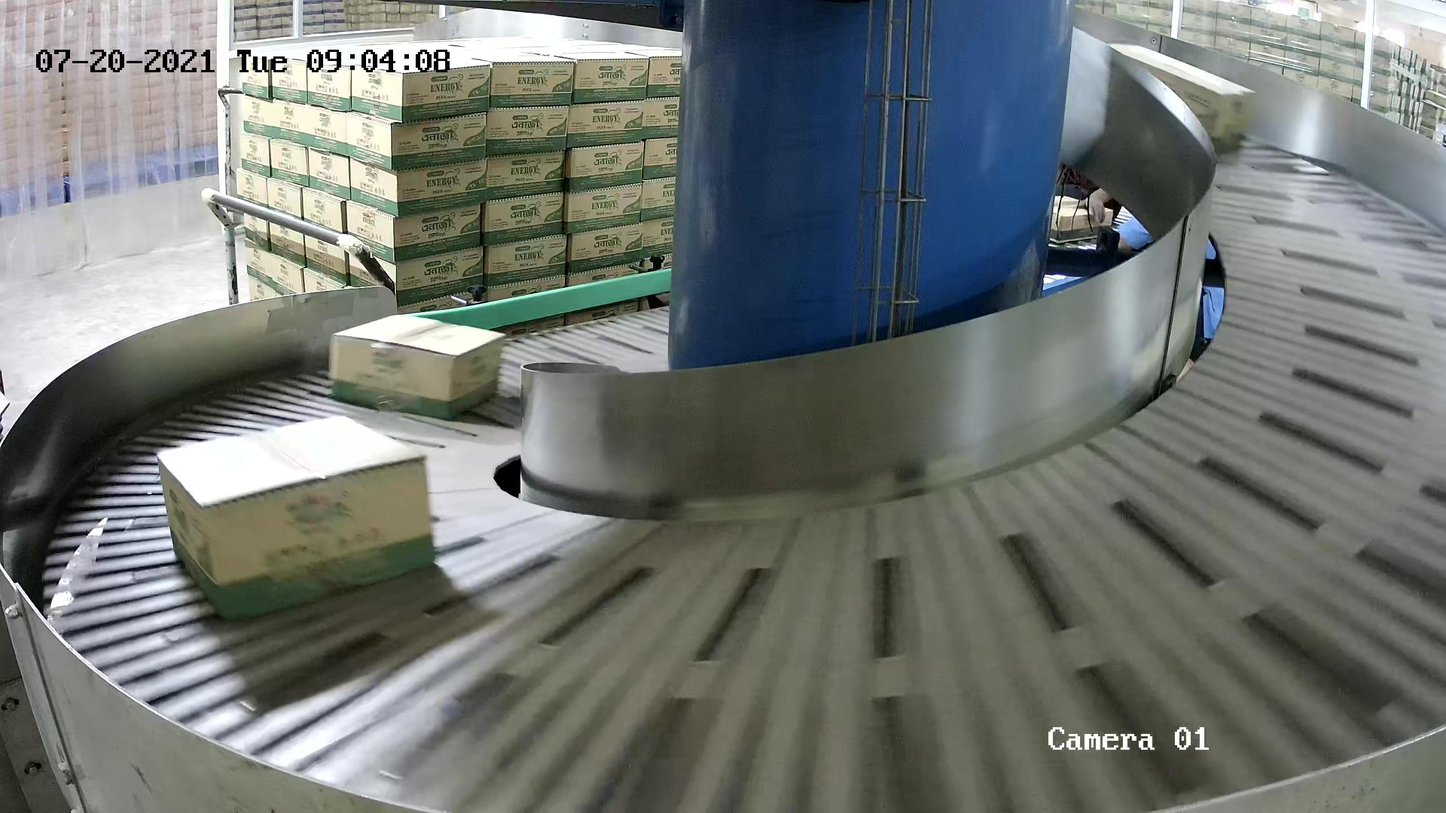Box: (155, 413, 440, 626), (328, 312, 507, 421), (1096, 42, 1258, 153)
